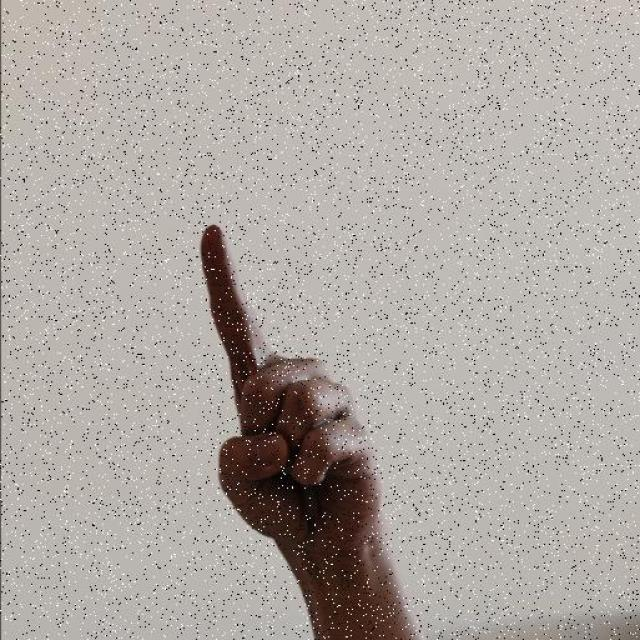Z: (192, 222, 388, 560)
